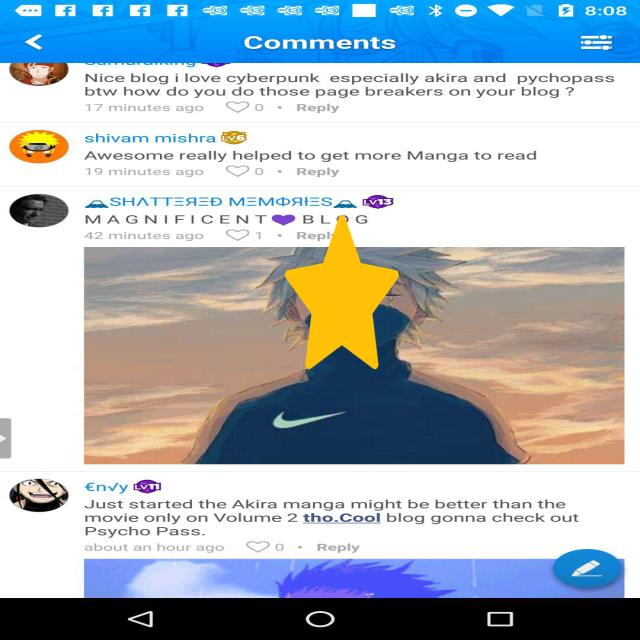forced continuity: (285, 215, 399, 369)
